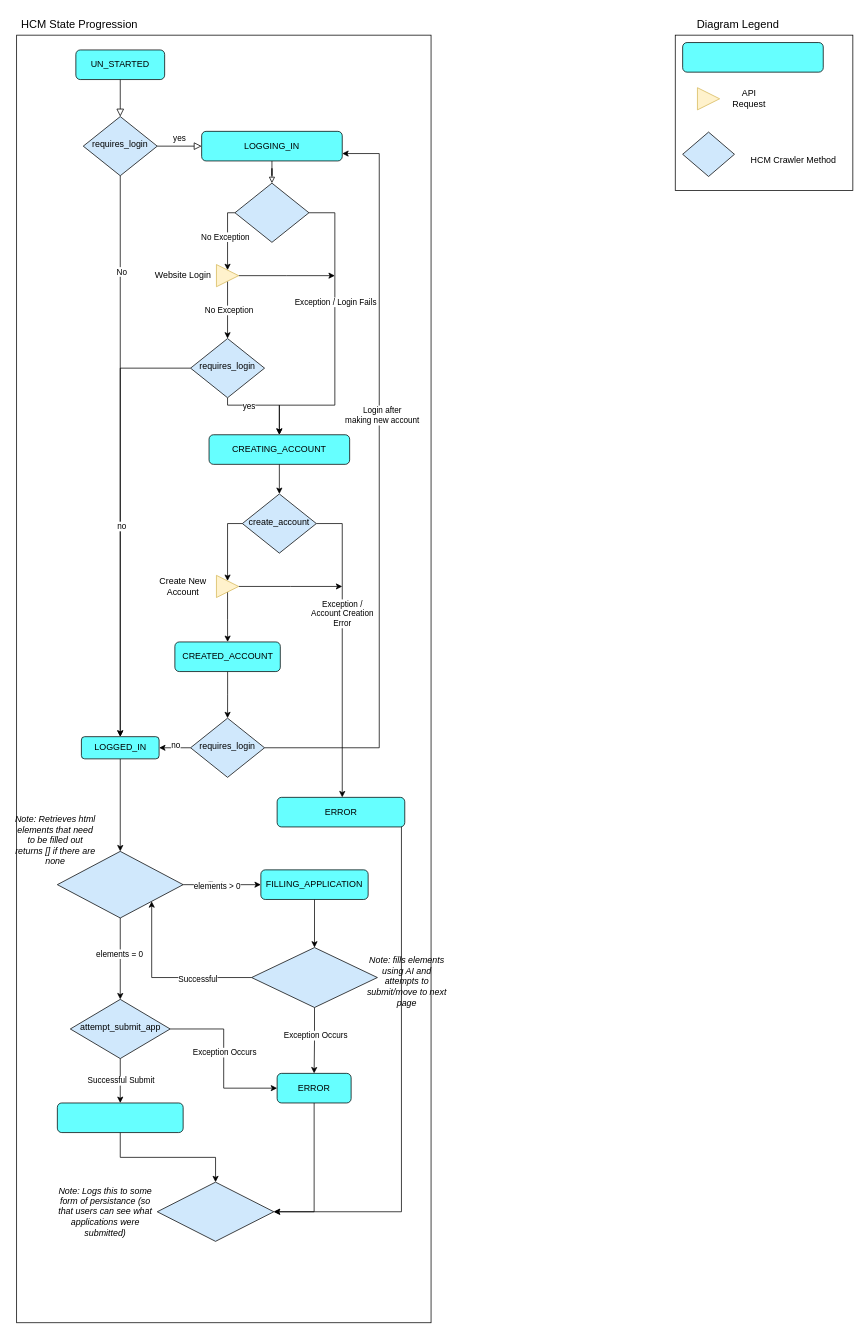
The diagram is 866 pixels wide and 1336 high, and some of its shapes have lost their labels. Each missing label, with the centre of its shape:
attempt_login: [271,212]
fill_application_elements: [314,977]
get_application_elements: [120,884]
HCM_Crawler.State Value: [752,57]
log_state_progression: [215,1211]
SUBMITTED_APPLICATION: [120,1117]
